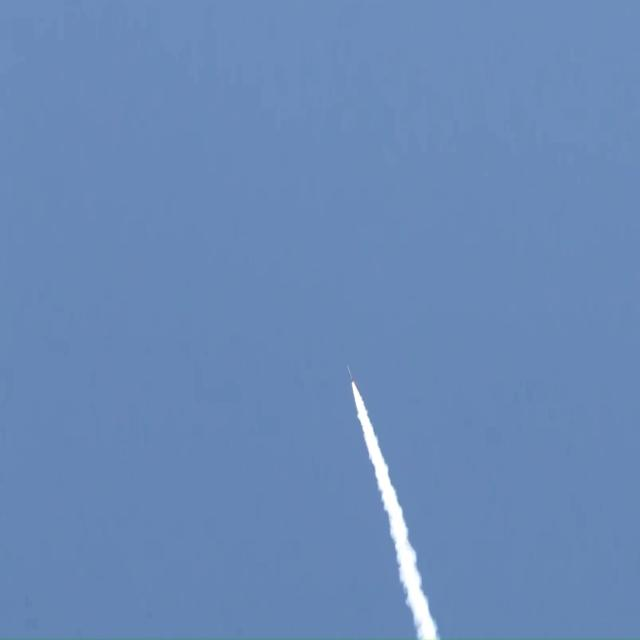Rocket: (347, 367, 353, 382)
